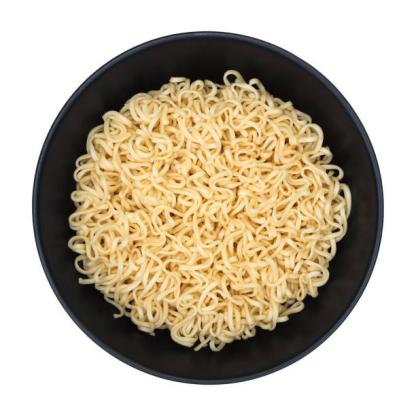Noodles: (66, 71, 352, 351)
